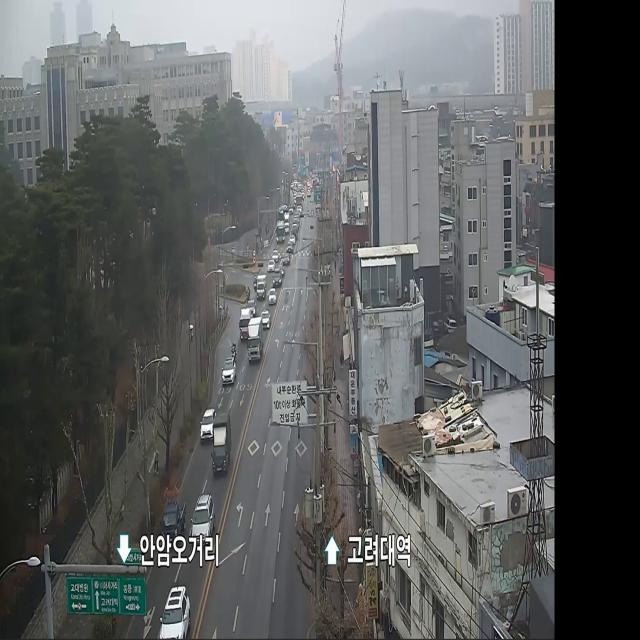car: (275, 218, 285, 244)
motorcycle: (160, 583, 191, 640), (190, 492, 216, 550), (200, 407, 217, 441), (222, 356, 236, 386), (259, 309, 272, 330), (272, 268, 283, 289), (246, 298, 257, 318), (268, 286, 276, 308), (267, 258, 275, 275), (283, 250, 290, 267), (271, 248, 279, 262), (289, 234, 296, 246), (287, 241, 293, 253)
truck: (211, 411, 232, 476), (161, 497, 186, 548), (247, 315, 264, 363), (240, 303, 254, 342)
